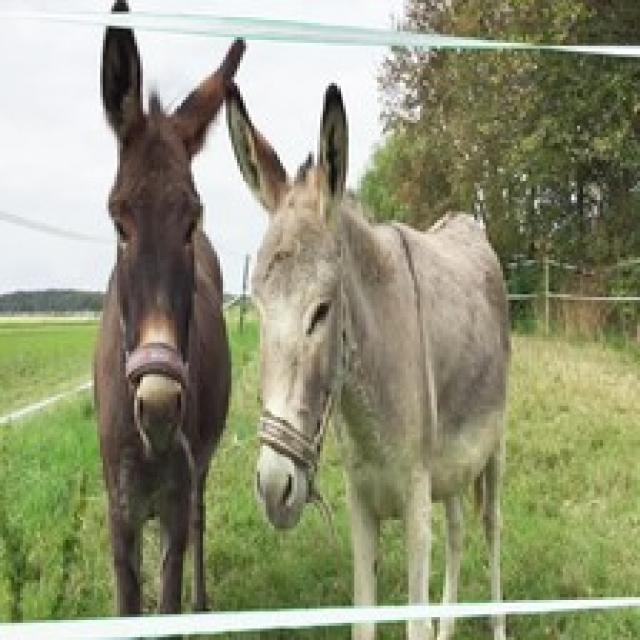Donkey: (240, 85, 585, 640), (34, 0, 248, 634)
